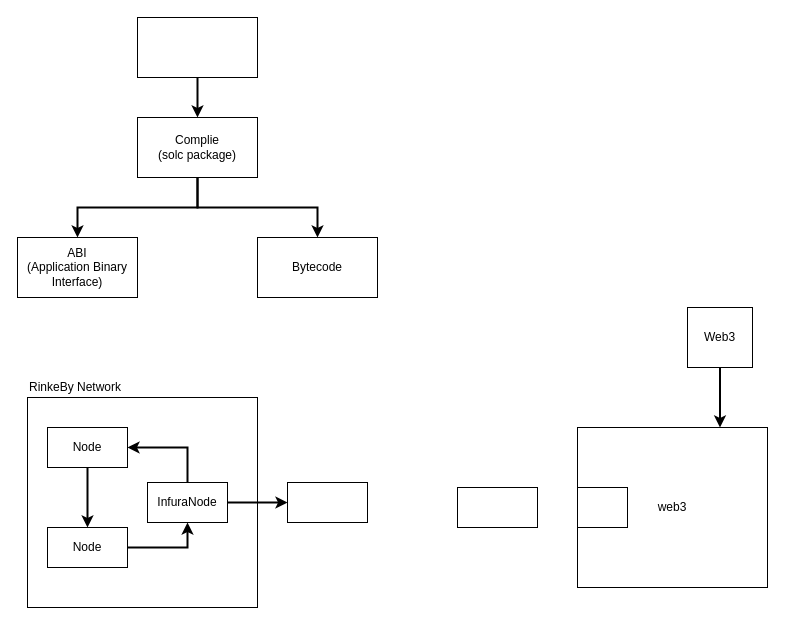
This 785x625 diagram has some shape labels left out. The shapes that lost their labels are listed below. From the top down, each one's centre as x and y in pixels, then its label:
At (197,47): "Write Contract by Solidity".
At (327,502): "Infura API".
At (497,507): "provider".
